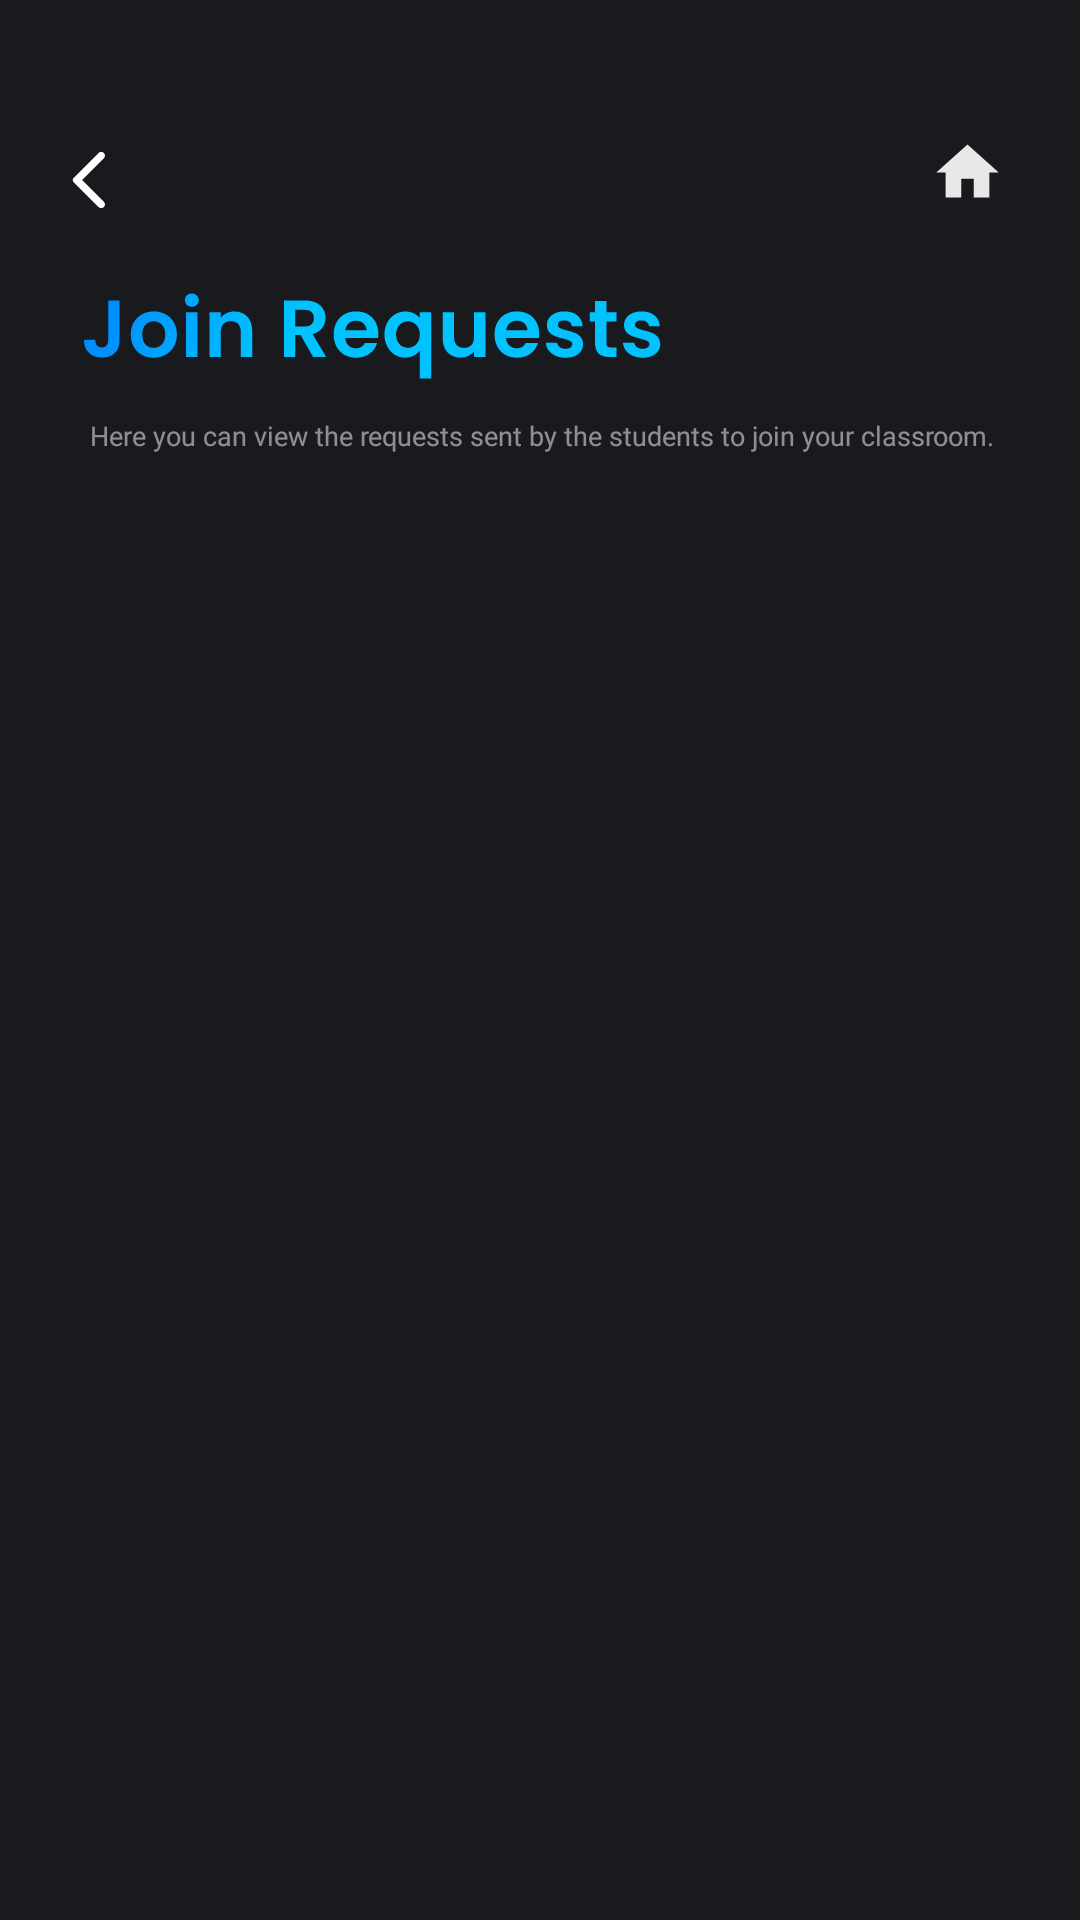

Locate icon controls on the screen. Image size 1080px x 1920px, boxes as {"left": x1, "top": y1, "right": x2, "bottom": y2}.
back: {"left": 72, "top": 152, "right": 105, "bottom": 209}
home: {"left": 936, "top": 144, "right": 999, "bottom": 198}
